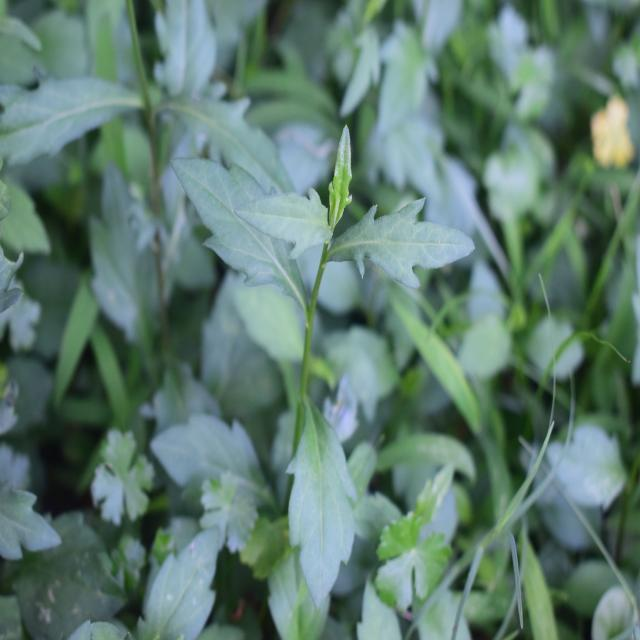Indian aster: (189, 109, 432, 575)
